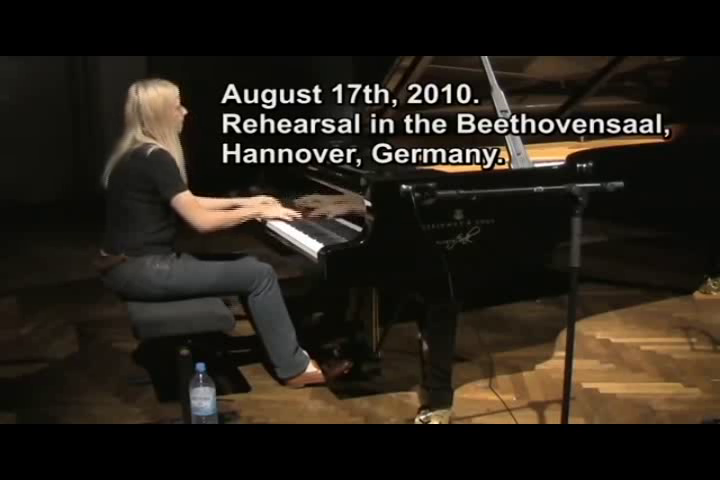keyboard: (213, 192, 353, 268)
